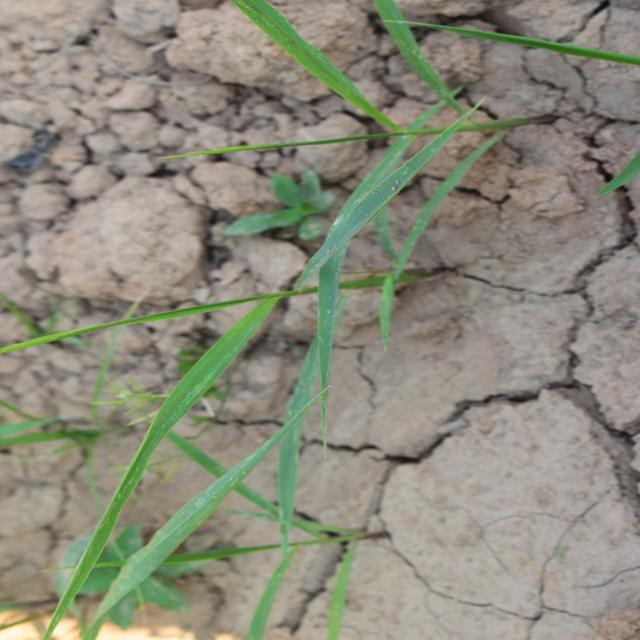green_foxtail: (210, 56, 454, 412), (0, 59, 219, 369), (400, 199, 630, 493)
